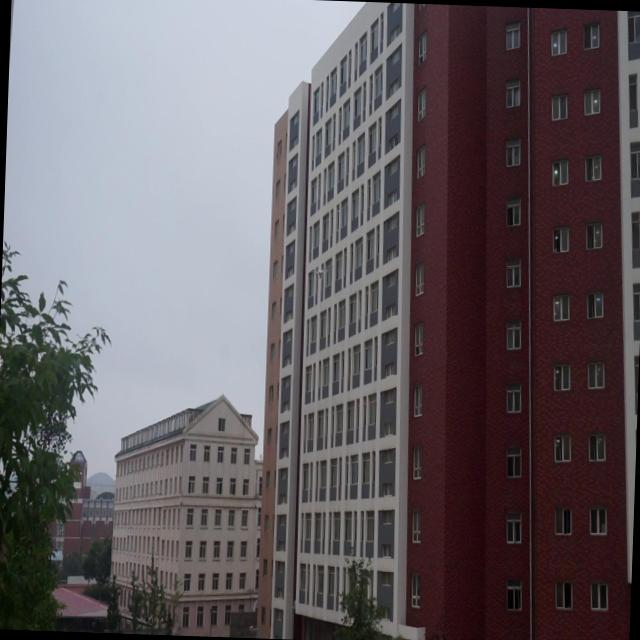drone: (313, 264, 326, 279)
